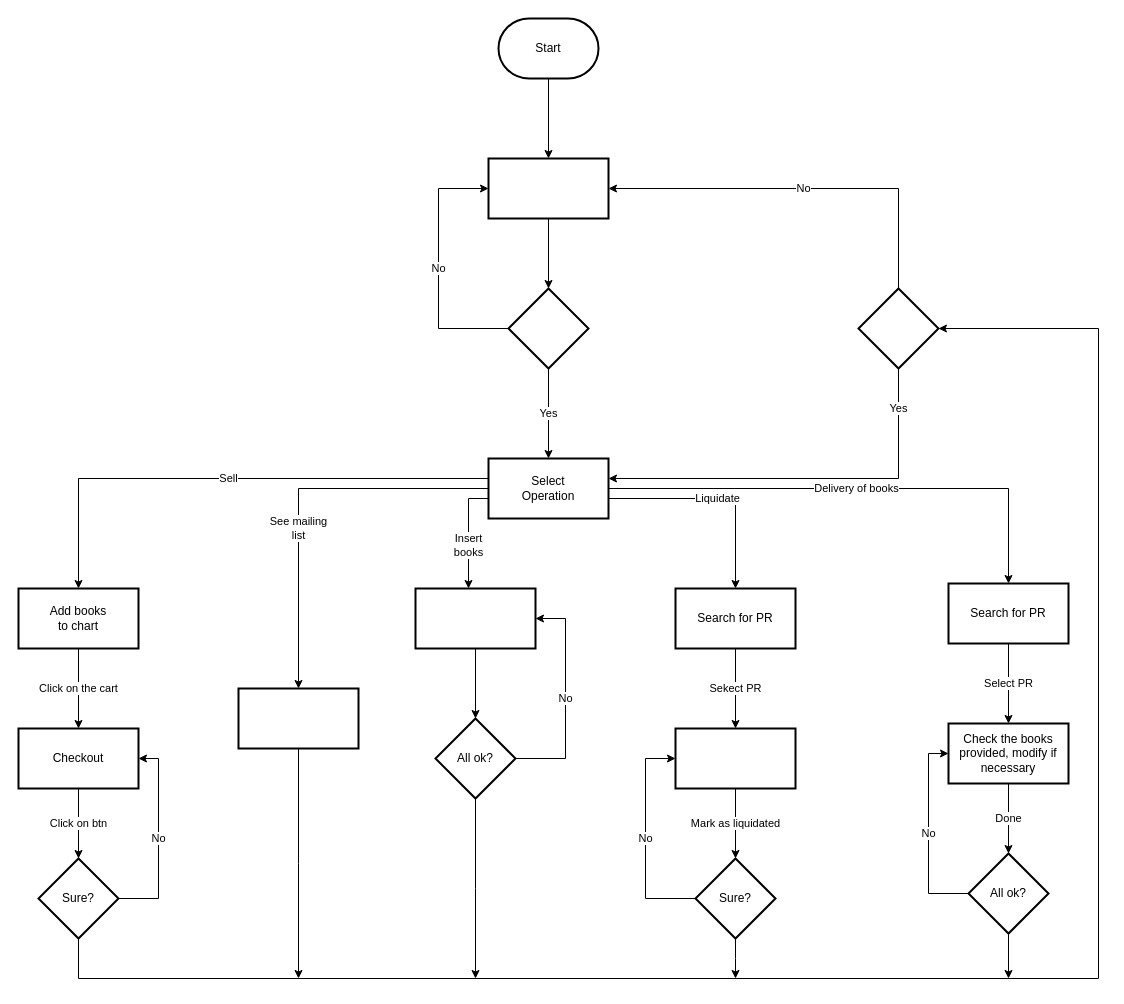
This 1124x1004 diagram has some shape labels left out. Here are the shapes that lost their labels. From the top down, the centre of each, then its label:
point (548, 188): Login
point (548, 328): Correct psw?
point (898, 328): Session still valid?
point (475, 618): Insert books info
point (298, 718): Inspect mailing list
point (735, 758): Give cash and books
